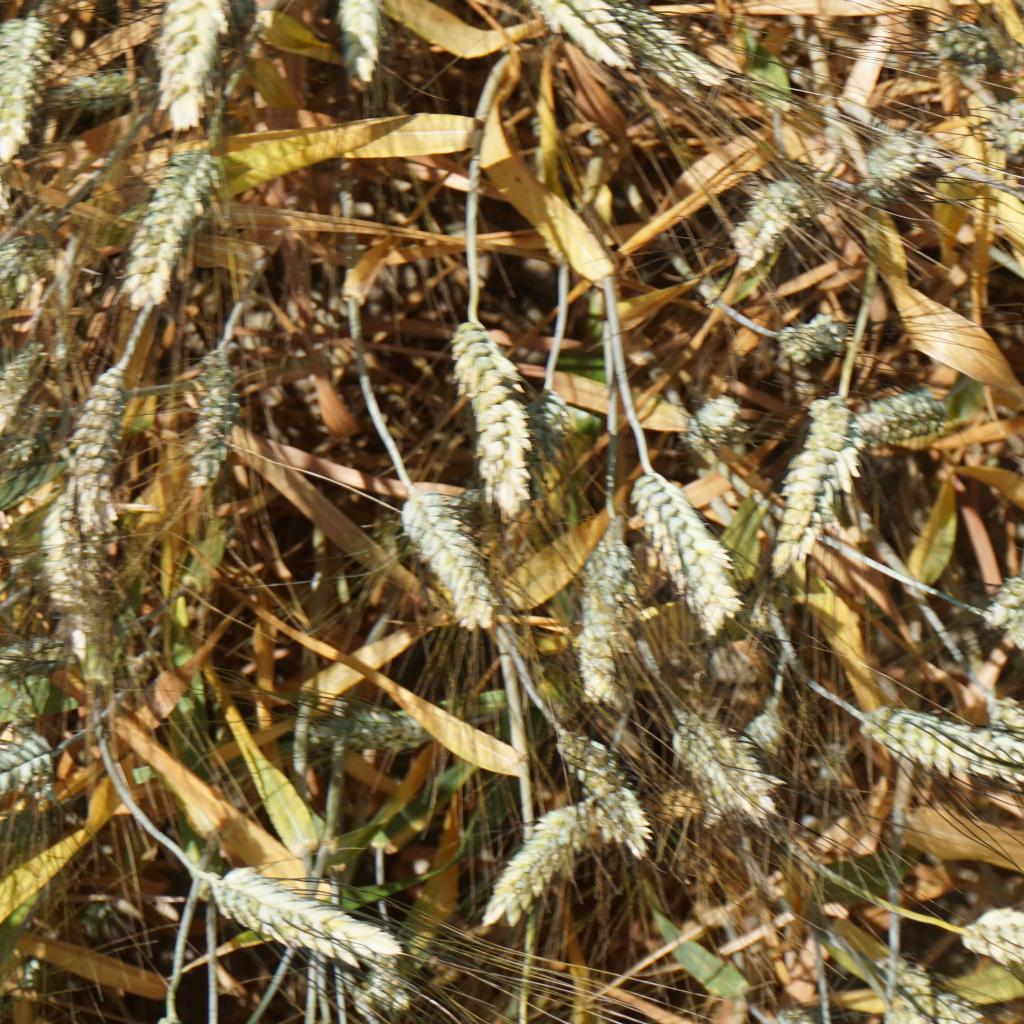0-0: (622, 460, 741, 621), (448, 311, 543, 500), (218, 858, 389, 958), (866, 694, 1024, 791), (122, 143, 216, 295), (567, 0, 716, 88), (404, 477, 491, 623), (659, 699, 760, 822), (481, 794, 581, 913), (41, 499, 118, 650), (68, 353, 131, 535), (579, 513, 641, 688), (148, 0, 223, 141), (768, 446, 842, 576), (175, 353, 246, 486), (492, 0, 634, 66), (549, 722, 640, 824), (714, 159, 798, 264), (862, 951, 969, 1024), (925, 3, 1020, 81), (327, 681, 437, 744), (314, 0, 403, 72), (0, 720, 74, 805), (502, 375, 573, 459), (851, 392, 946, 449), (956, 905, 1024, 983), (34, 64, 148, 110), (0, 339, 60, 425), (0, 8, 38, 140), (727, 680, 784, 765), (0, 621, 72, 687), (990, 691, 1024, 814), (772, 311, 850, 364), (788, 394, 857, 451), (866, 124, 928, 186), (686, 392, 754, 448), (982, 520, 1024, 608), (973, 94, 1024, 158), (0, 423, 41, 499), (797, 741, 851, 796), (363, 943, 407, 1008), (999, 610, 1024, 690), (0, 818, 37, 870), (0, 965, 31, 1013)
